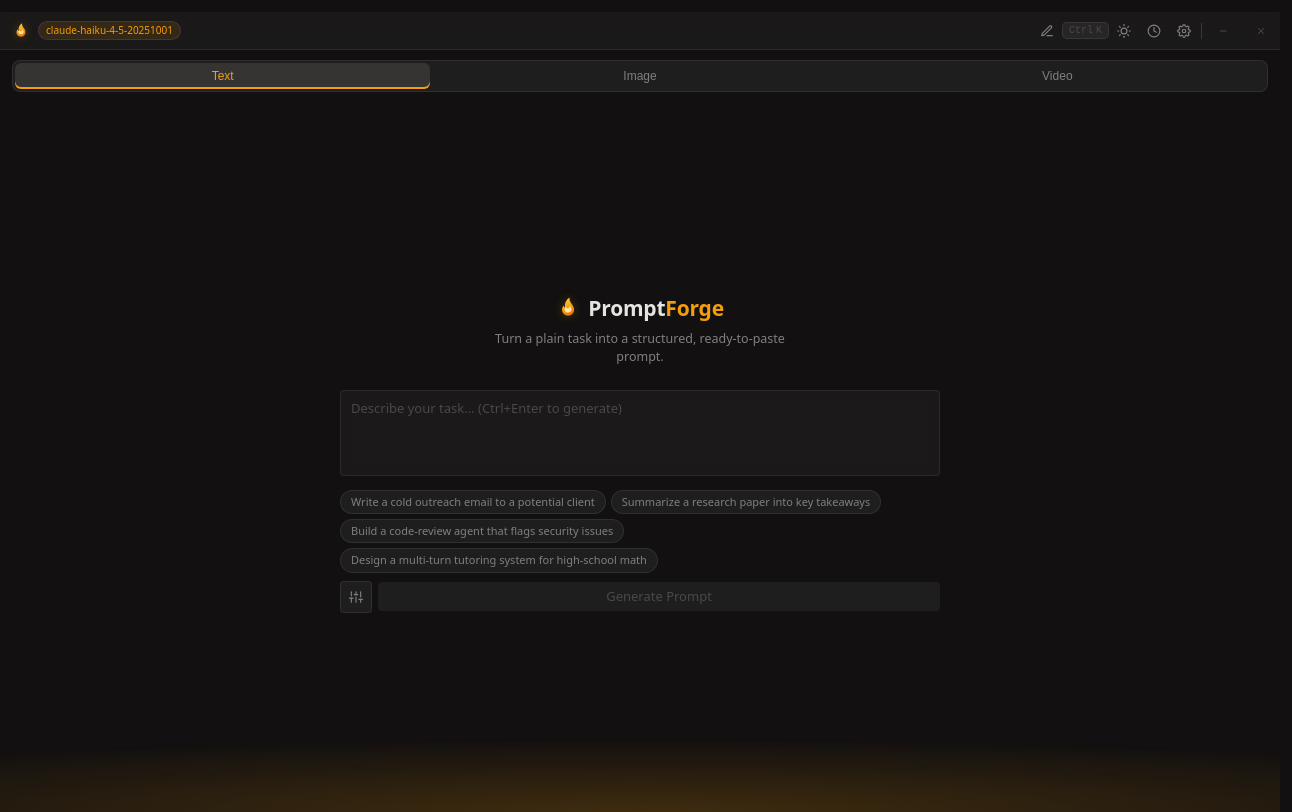
Scenario: App — Main view › New prompt clears the input and the result
The image size is (1292, 812).
Type "some task" into the text box with placeholder "Describe your task... (Ctrl+Enter to generate)". click: (640, 433)
box: top-left (340, 390), bottom-right (940, 476)
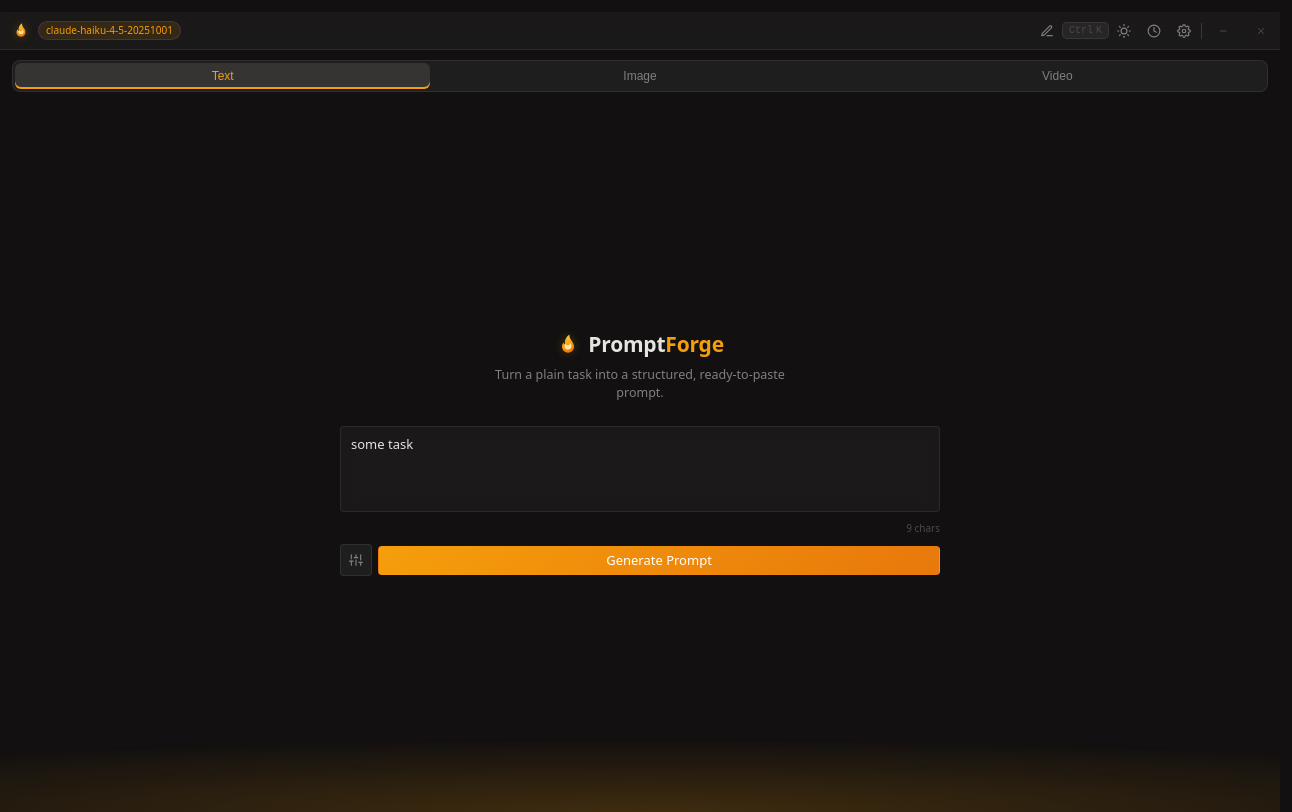
Click the button "Generate Prompt". click: (659, 560)
box: top-left (378, 546), bottom-right (940, 575)
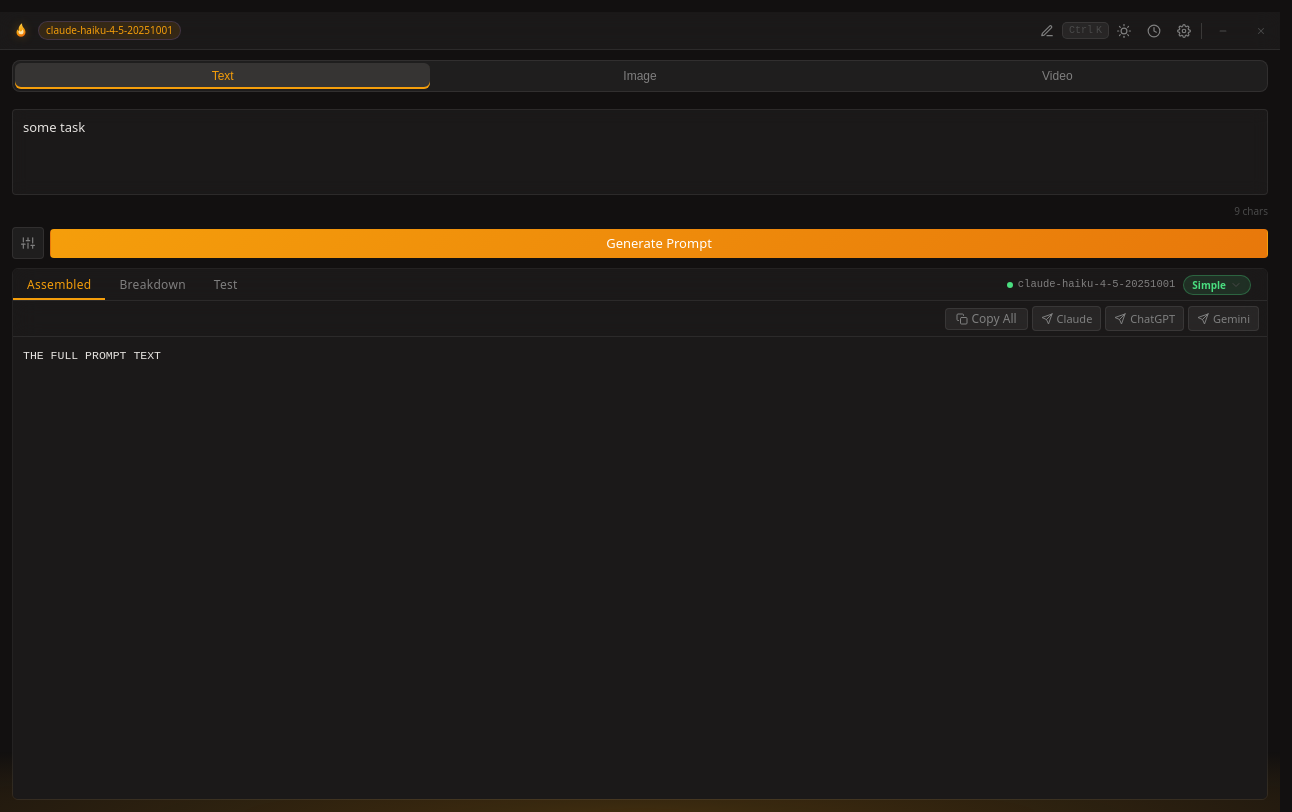
Now the text "THE FULL PROMPT TEXT" is shown, box top-left (13, 337), bottom-right (1267, 799)
Click the button named "New prompt". click: (1047, 30)
box: top-left (1032, 16), bottom-right (1062, 46)
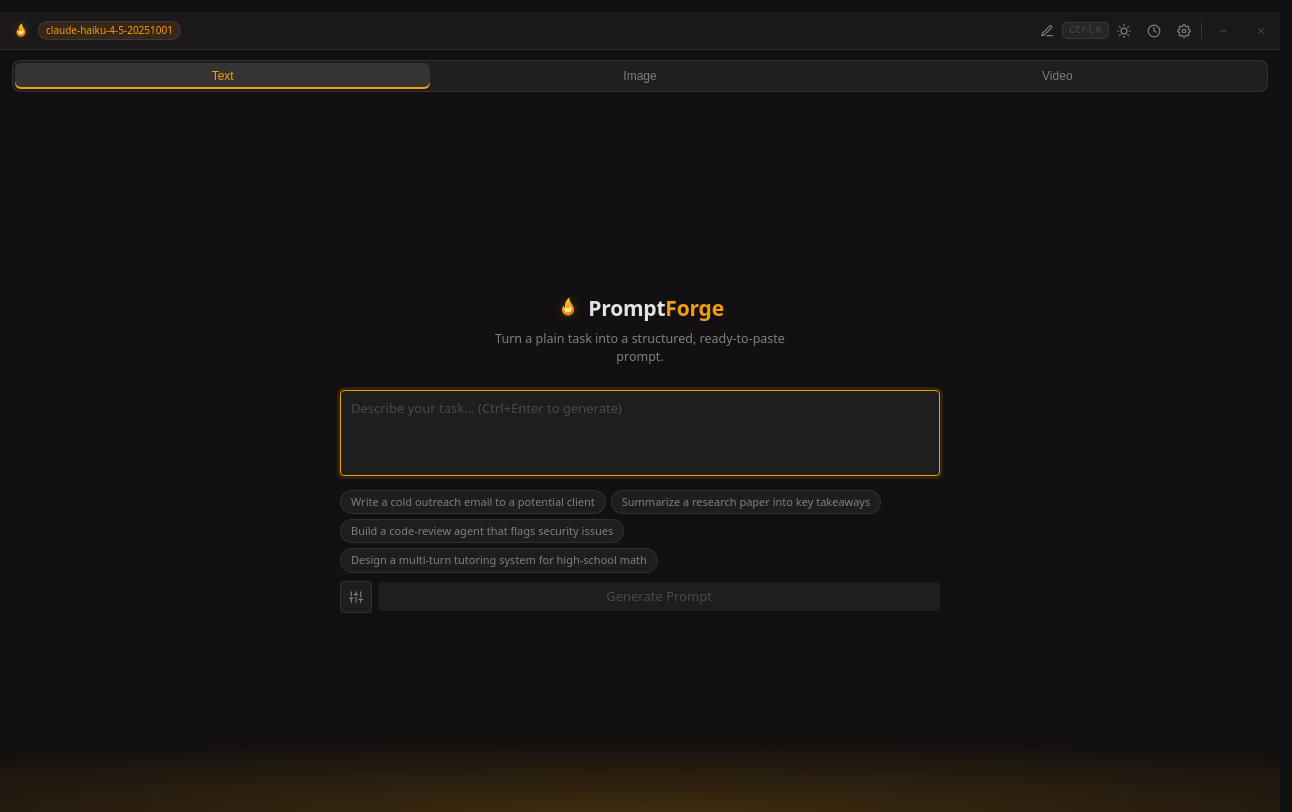
Now the text box with placeholder "Describe your task... (Ctrl+Enter to generate)" is empty, box top-left (340, 390), bottom-right (940, 476)
Now the text "THE FULL PROMPT TEXT" is gone
